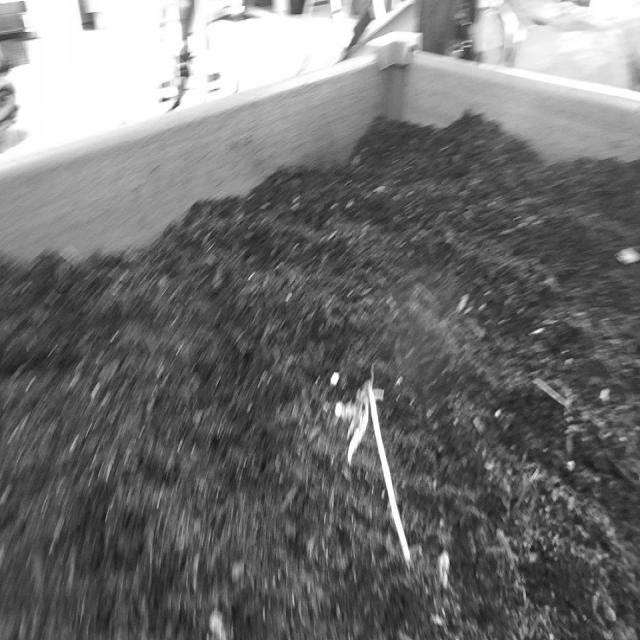Unhealthy: (329, 342, 435, 604)
